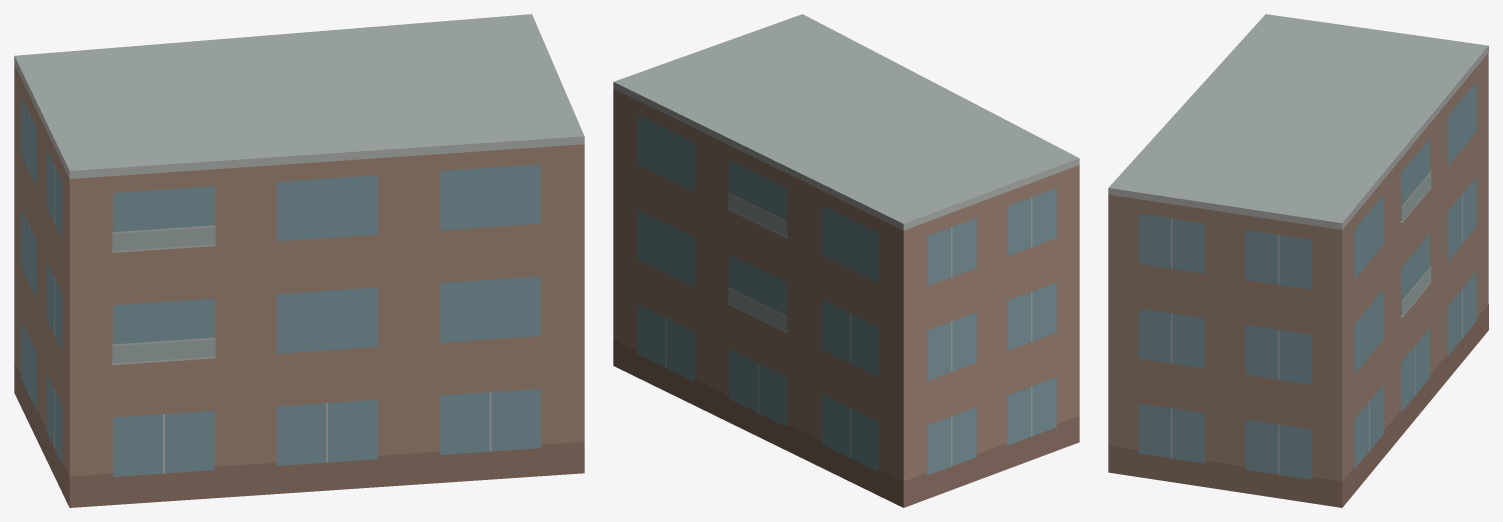
The model's file is survey-upis-32517422.glb.
3 views of the same model, side by side, from view 1: azimuth 30°, elevation 25°; view 2: azimuth 150°, elevation 25°; view 3: azimuth 270°, elevation 25° (orthographic). The views are drawn at different scales.
Visible parts, largest first — view 1: survey-upis-32517422.tmp; view 2: survey-upis-32517422.tmp; view 3: survey-upis-32517422.tmp.
Part boxes in pixels (box(x1,y1,x2,y2)): survey-upis-32517422.tmp: box(14, 14, 584, 507); survey-upis-32517422.tmp: box(613, 14, 1079, 507); survey-upis-32517422.tmp: box(1108, 14, 1488, 507).
Bounding box in the file's own units: 16.26 × 10.3 × 12.49.
